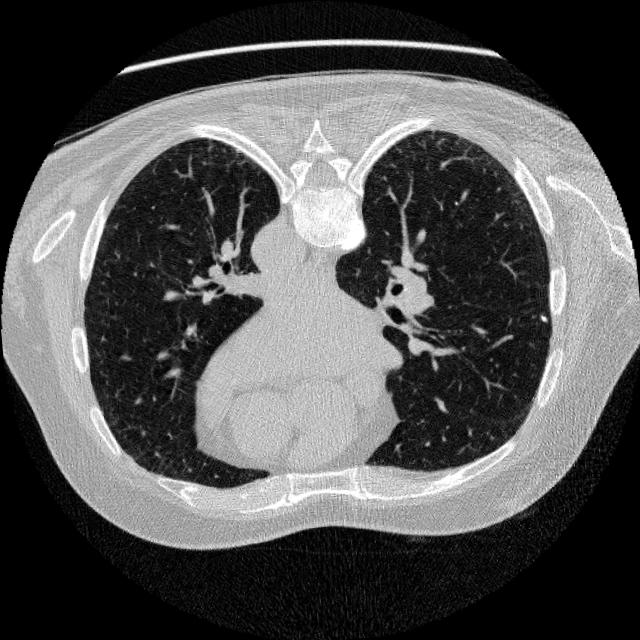nodule: (537, 312, 553, 328)
